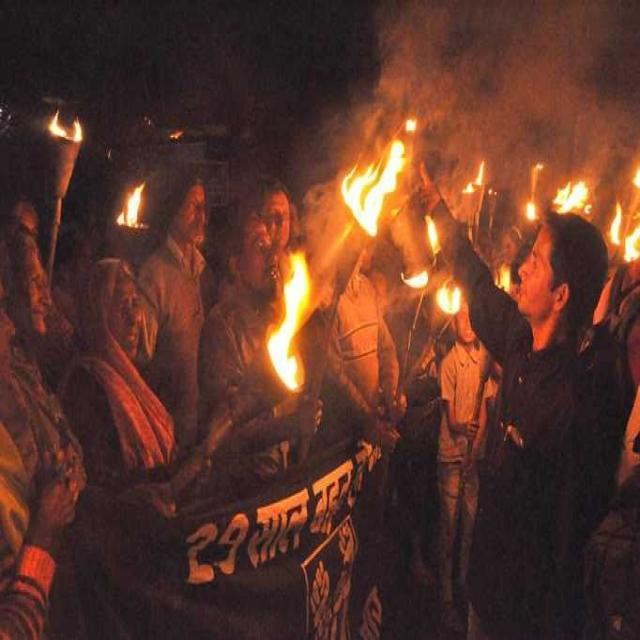Fire: (338, 122, 415, 240), (263, 243, 306, 393), (110, 168, 144, 224), (50, 100, 90, 142)
